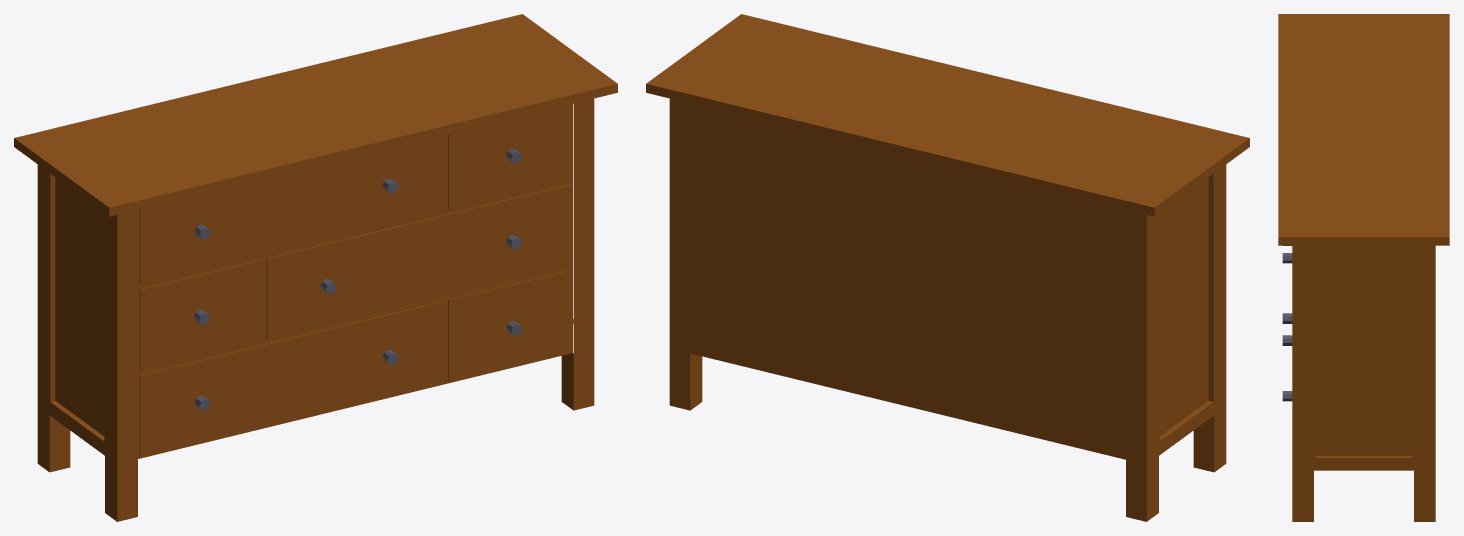
Rendered from Dresser.glb.
3 renders of one model, left to right at view 1: azimuth 30°, elevation 25°; view 2: azimuth 150°, elevation 25°; view 3: azimuth 270°, elevation 25°, orthographic. The views are drawn at different scales.
Parts seen in each view (by area): view 1: Dresser; view 2: Dresser; view 3: Dresser.
Boxes of the visible parts, left/top/right/bottom form: Dresser: left=14, top=14, right=617, bottom=521; Dresser: left=646, top=14, right=1249, bottom=521; Dresser: left=1278, top=14, right=1449, bottom=521.
Bounding box in the file's own units: 2.57 × 1.56 × 0.8346.
